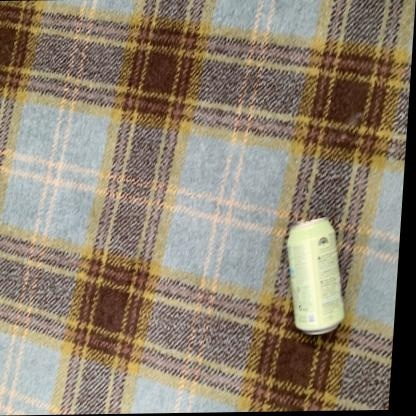trash: (287, 218, 343, 334)
